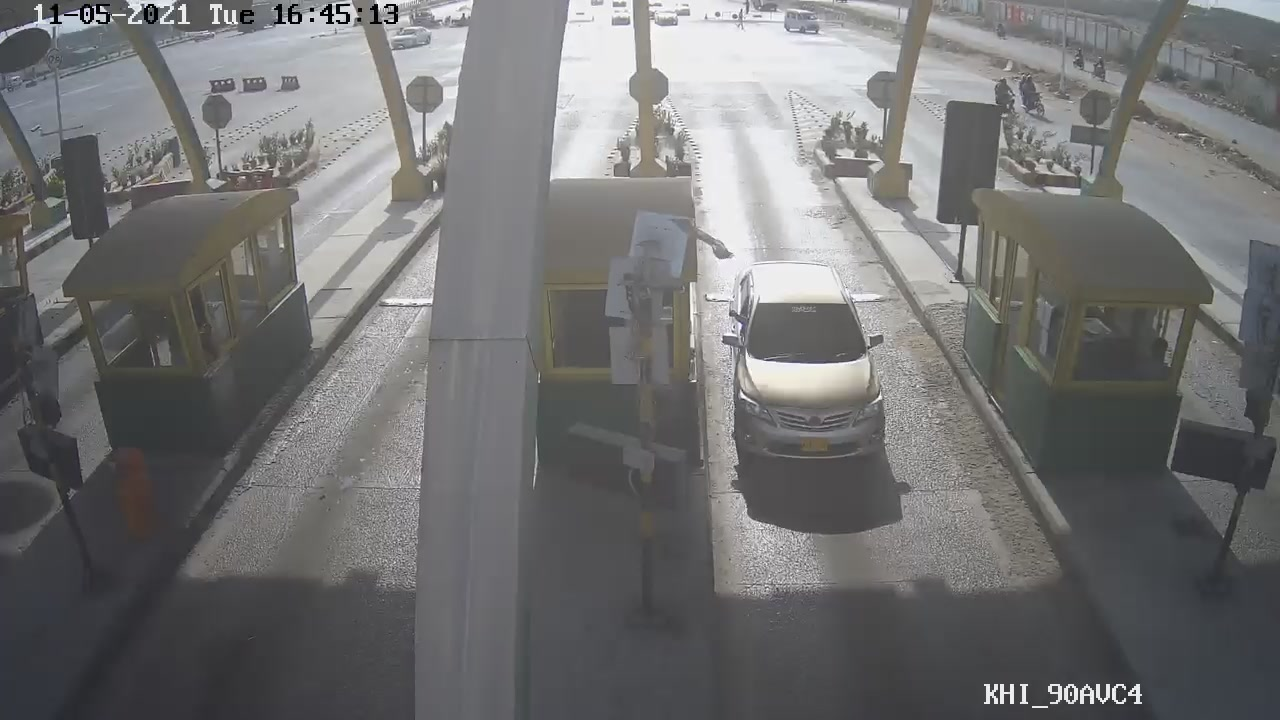F1: (714, 257, 898, 469)
